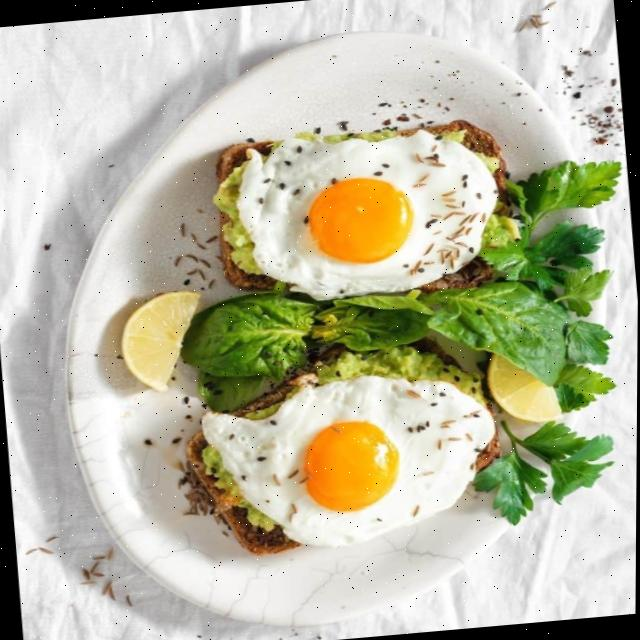Egg: (201, 374, 494, 547), (235, 129, 498, 300)
